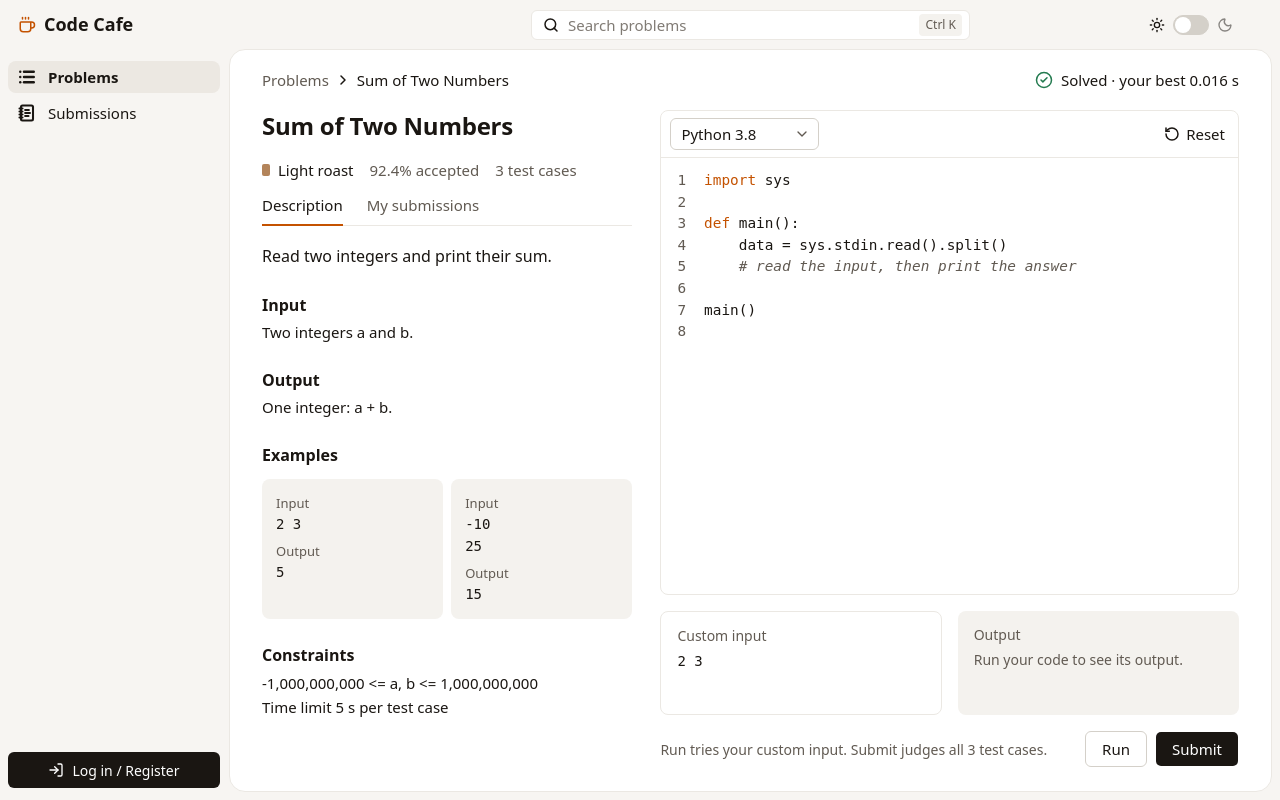
workspace › asks a logged-out visitor to log in before running
Click the button "Run". click: (1116, 749)
box: [1085,731,1147,767]
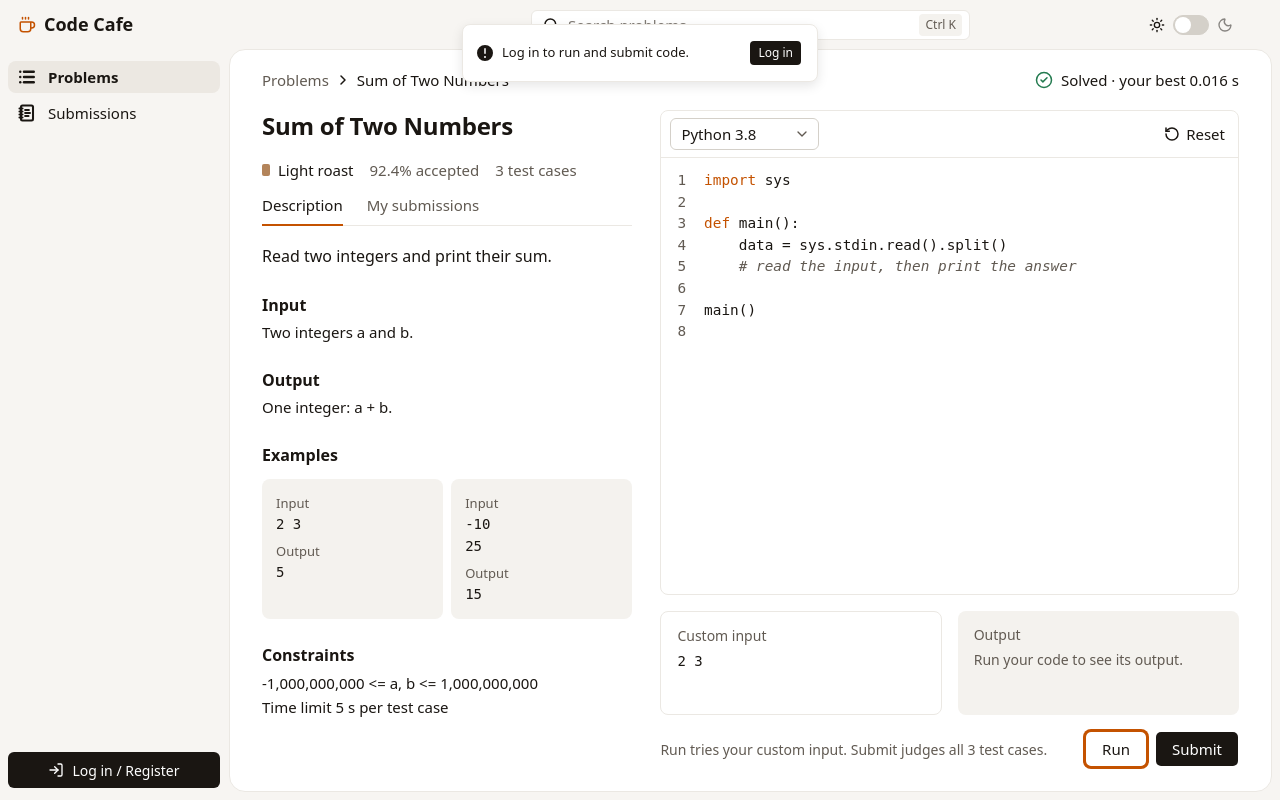
Result: the text "Log in to run and submit code." is shown at [502,43,689,63]
